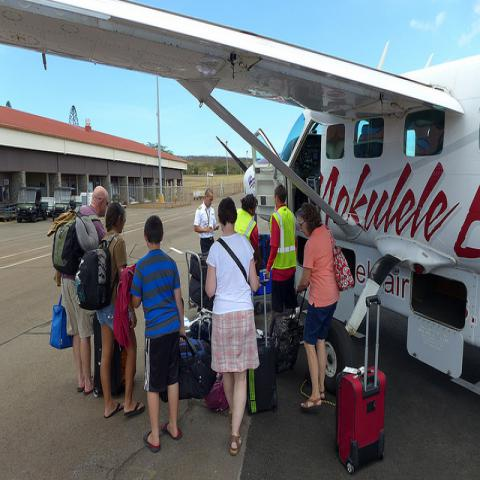truck: (15, 186, 49, 223), (51, 187, 82, 221)
